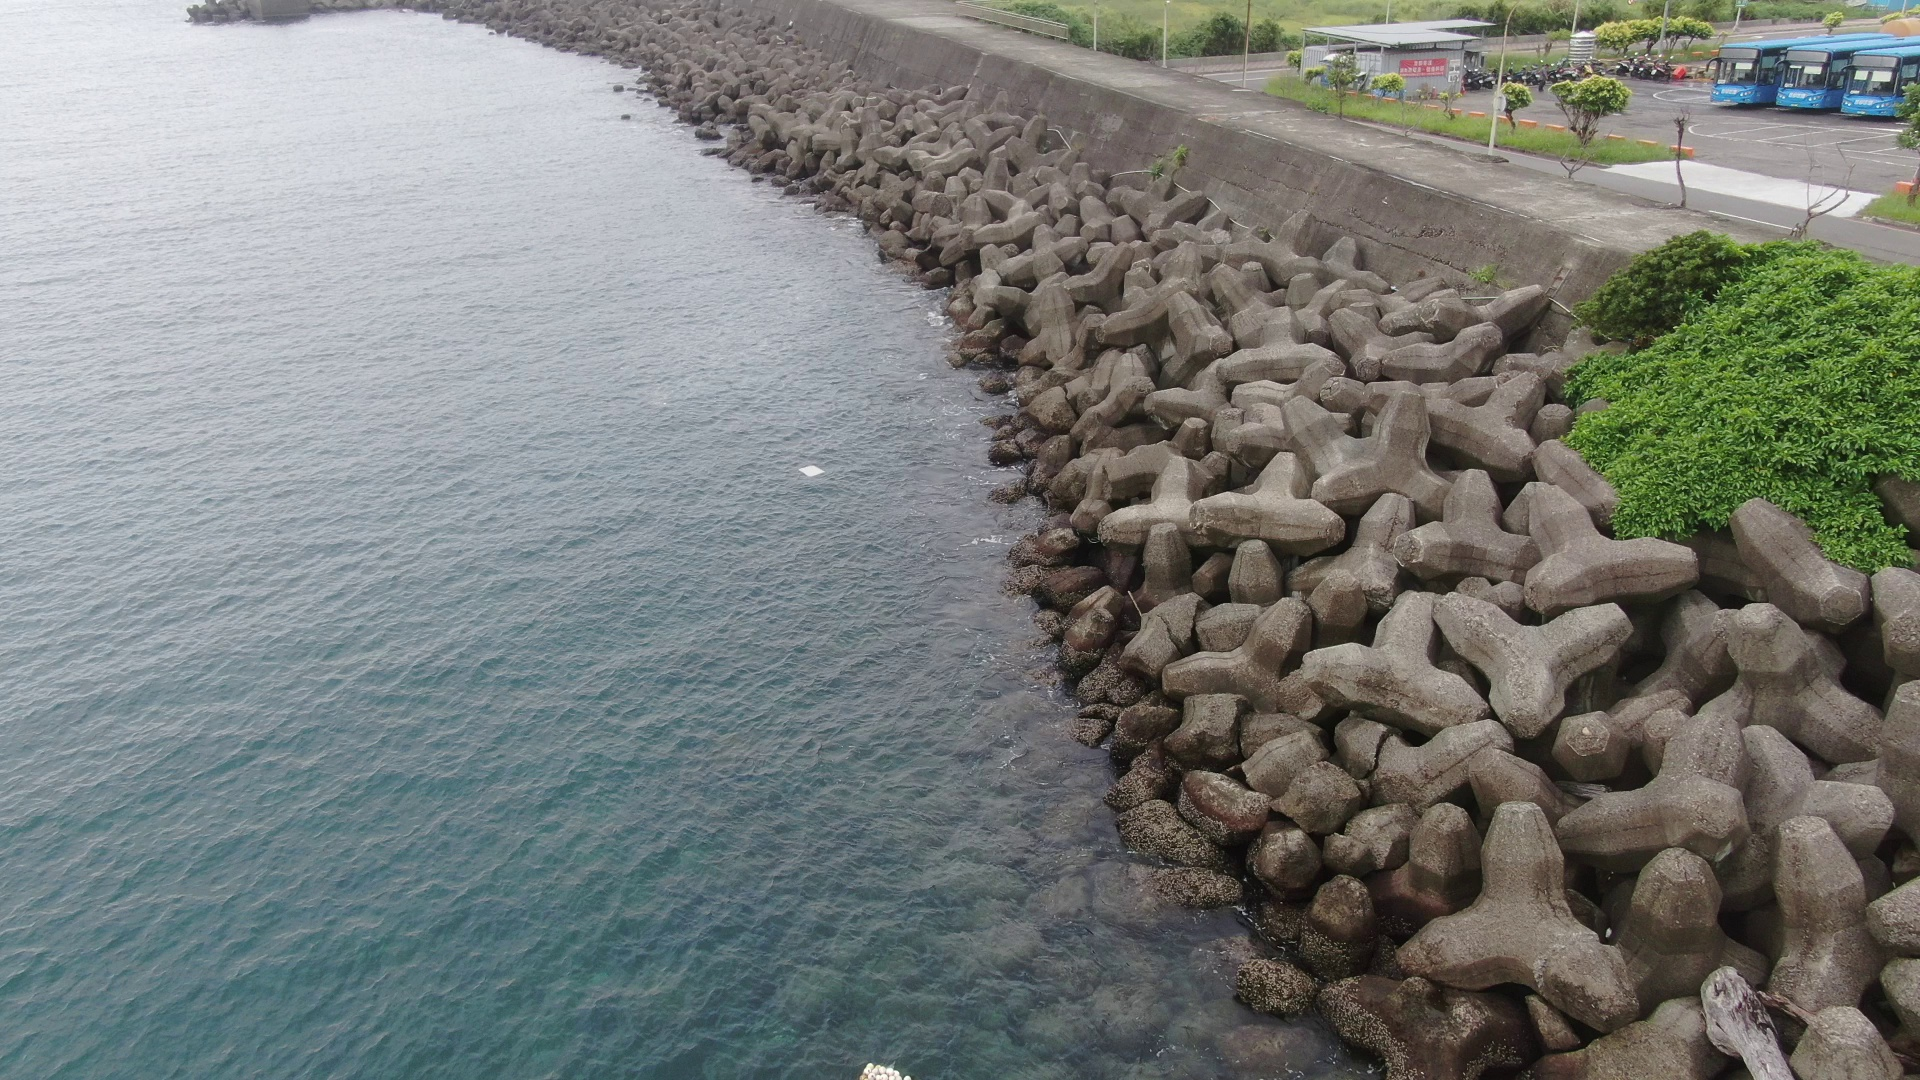garbage: (828, 1051, 914, 1080), (793, 456, 828, 488)
